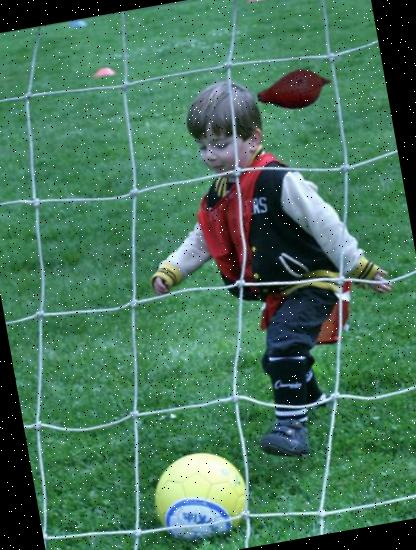Salak: (250, 45, 339, 134)
